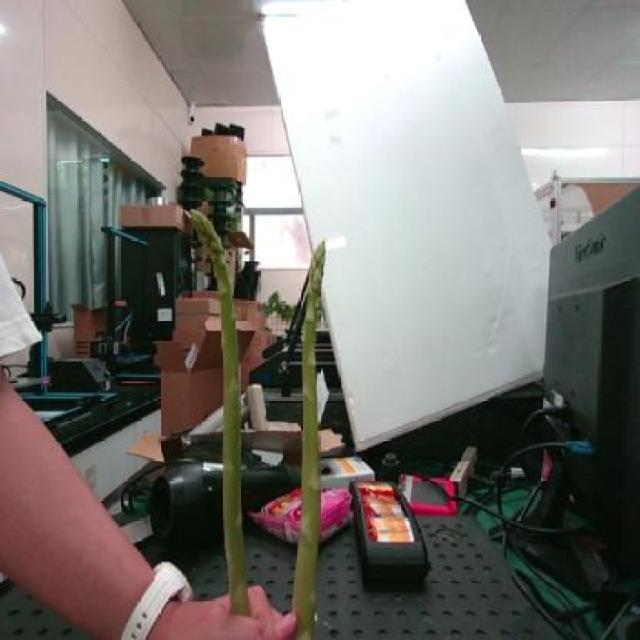aspargus: (186, 211, 248, 617), (295, 246, 326, 640)
